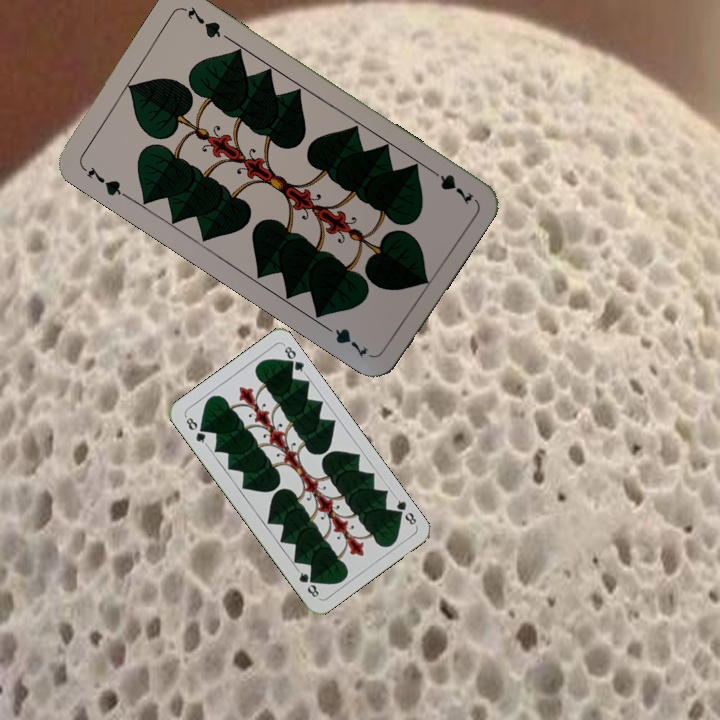G7: (424, 163, 477, 207), (78, 162, 130, 201)
G8: (181, 412, 210, 448), (390, 493, 419, 528)
